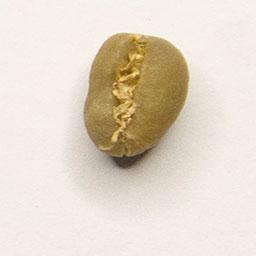peaberry: (81, 28, 193, 163)
